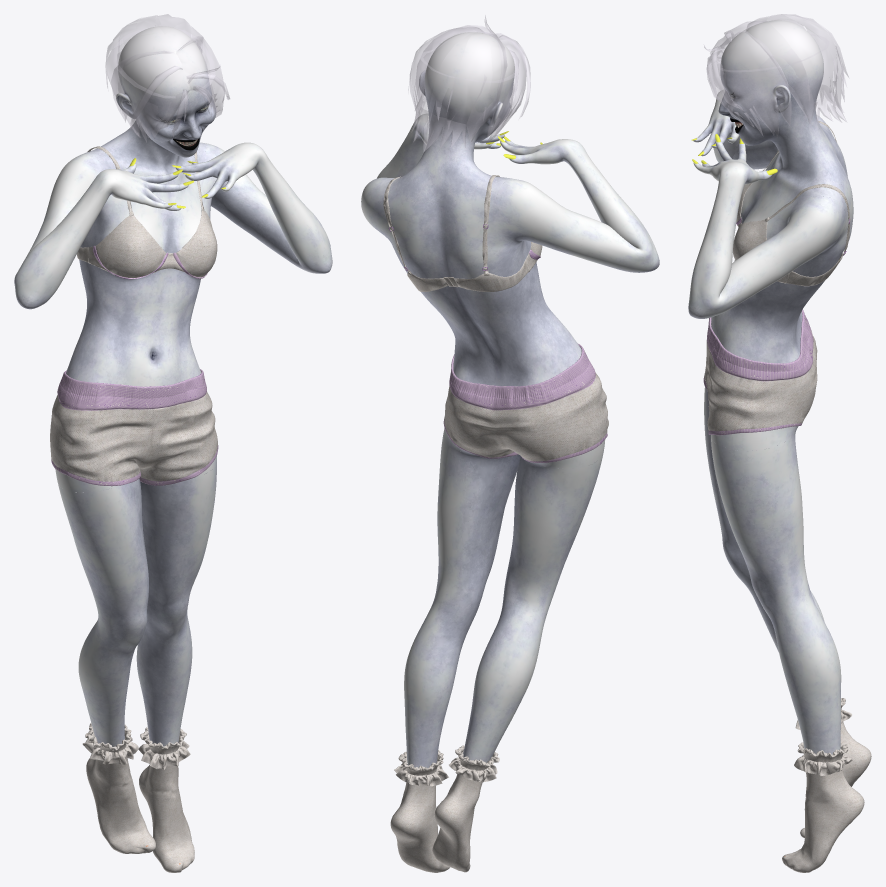
Rendered from Avatar_Base_draco2.glb.
3 renders of one model, left to right at view 1: azimuth 30°, elevation 25°; view 2: azimuth 150°, elevation 25°; view 3: azimuth 270°, elevation 25°, orthographic. The views are drawn at different scales.
Parts seen in each view (by area): view 1: Genesis9, Bra, hair; view 2: Genesis9, Bra, hair; view 3: Genesis9, Bra, hair.
Boxes of the visible parts, x1,y1,x2,y2 form: Genesis9: (14, 26, 332, 864); Bra: (50, 146, 218, 872); hair: (105, 14, 229, 142); Genesis9: (361, 32, 659, 767); Bra: (383, 175, 608, 872); hair: (408, 15, 530, 151); Genesis9: (688, 20, 853, 856); Bra: (703, 121, 871, 872); hair: (704, 14, 848, 136).
Size of the model in its own units: 64.61 by 175 by 34.74.
Materials: 16 (12 with a texture image).
